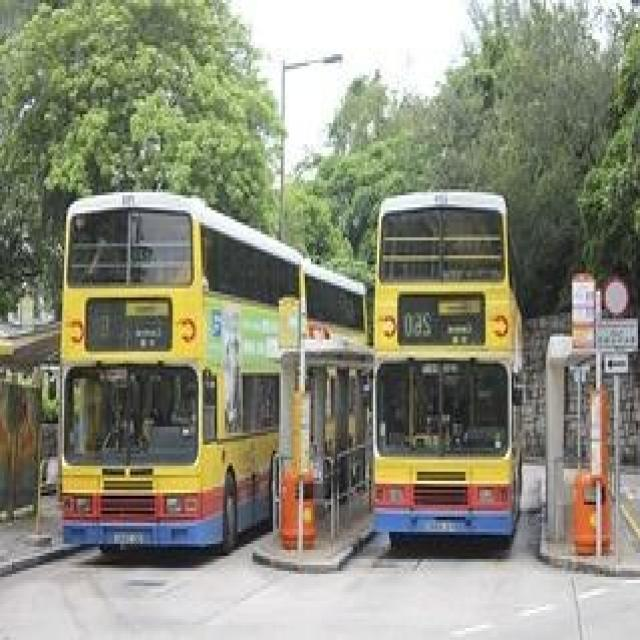Bus: (345, 199, 552, 531), (60, 204, 260, 547)
